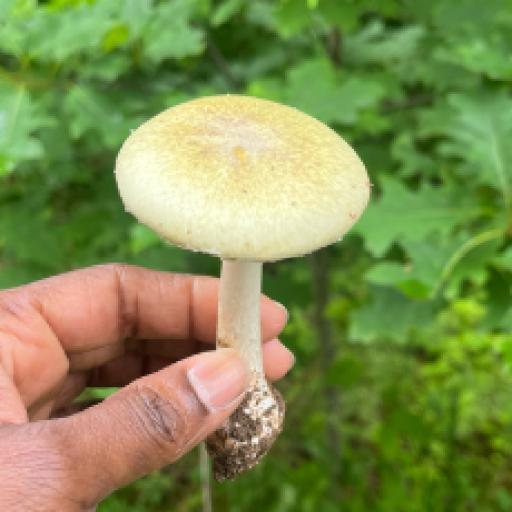mushroom: (98, 54, 446, 482)
